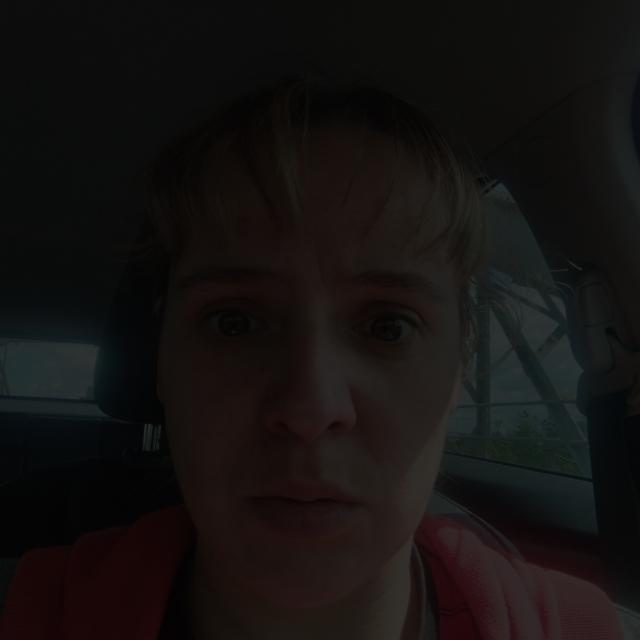Surprised: (141, 158, 492, 573)
